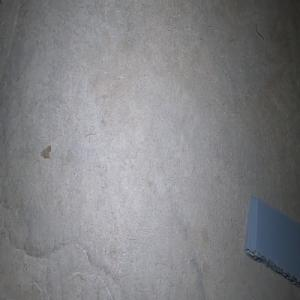PlasticPart: (243, 194, 300, 287)
